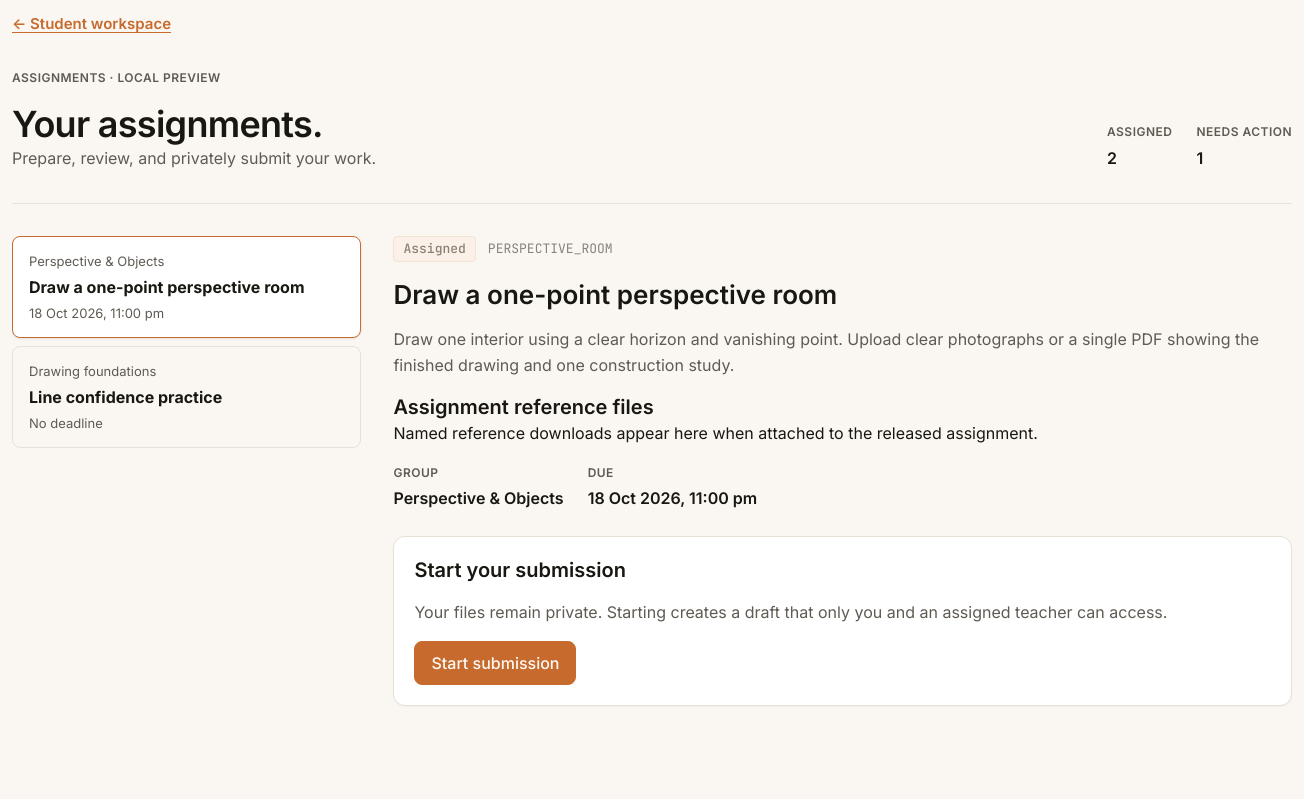
StudentAssignmentsPage › shows the fictional assignment and starts a private draft in preview
Expected: the heading "Your assignments." is shown, [12,102,323,146]
Expected: the heading "Draw a one-point perspective room" is shown, [393,279,837,310]
Step 1. Click the button "Start submission" → (495, 663), box [414,641,576,685]
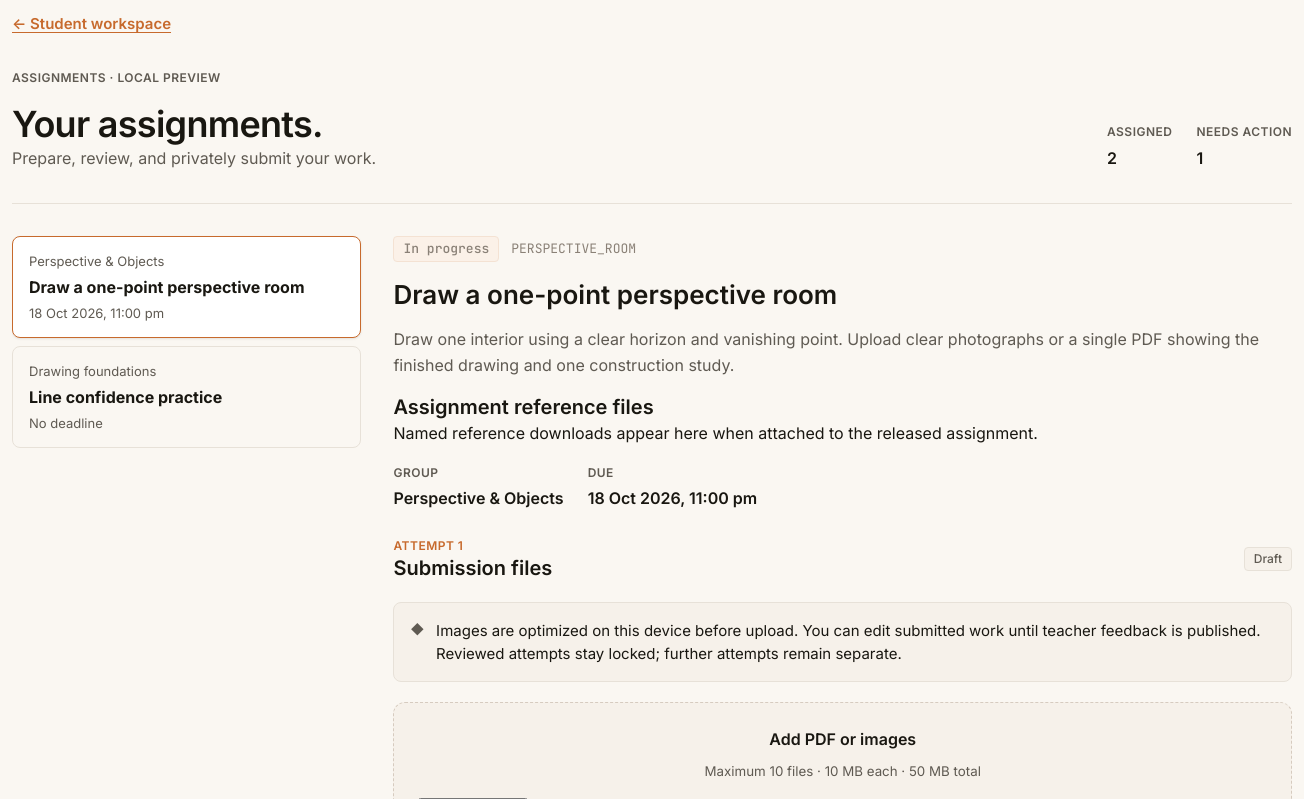
Result: the heading "Submission files" is shown at [393,555,552,582]
Result: the text "Images are optimized on this device" is shown at [436,621,1260,663]
